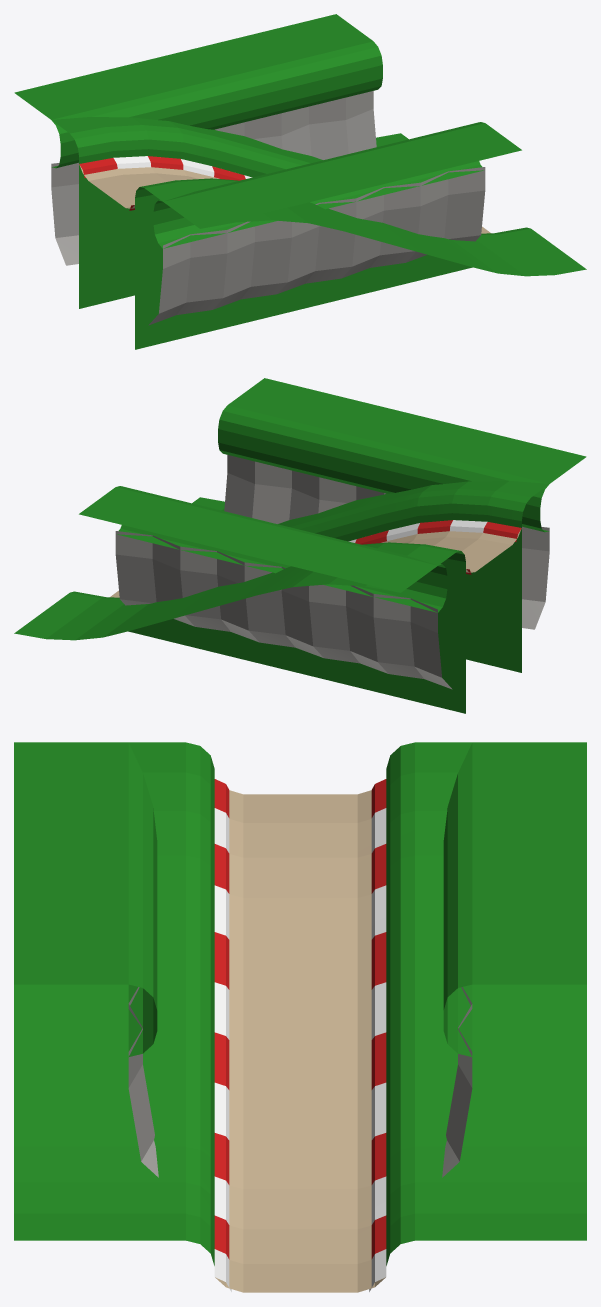
File: Track_Cliff_Incline_Striped_2_Tall_Single.obj
3 views of the same model, one above another, from view 1: azimuth 30°, elevation 25°; view 2: azimuth 150°, elevation 25°; view 3: azimuth 270°, elevation 25° (orthographic). The views are drawn at different scales.
Visible parts, largest first — view 1: Grass, Rock, Dirt, Raceline_Color_2, Raceline_Color_1; view 2: Grass, Rock, Dirt, Raceline_Color_2, Raceline_Color_1; view 3: Grass, Dirt, Raceline_Color_1, Raceline_Color_2, Rock.
Boxes of the visible parts, left/top/right/bottom form: Grass: left=14, top=14, right=586, bottom=349; Rock: left=51, top=91, right=485, bottom=325; Dirt: left=79, top=165, right=490, bottom=233; Raceline_Color_2: left=79, top=156, right=245, bottom=210; Raceline_Color_1: left=113, top=156, right=251, bottom=178; Grass: left=14, top=378, right=586, bottom=713; Rock: left=115, top=455, right=549, bottom=689; Dirt: left=110, top=529, right=521, bottom=597; Raceline_Color_2: left=355, top=520, right=521, bottom=574; Raceline_Color_1: left=349, top=520, right=487, bottom=542; Grass: left=14, top=742, right=586, bottom=1265; Dirt: left=215, top=790, right=385, bottom=1292; Raceline_Color_1: left=214, top=808, right=386, bottom=1291; Raceline_Color_2: left=214, top=779, right=386, bottom=1259; Rock: left=128, top=987, right=472, bottom=1177.
Size of the model in its own units: 6 by 2.5 by 5.
